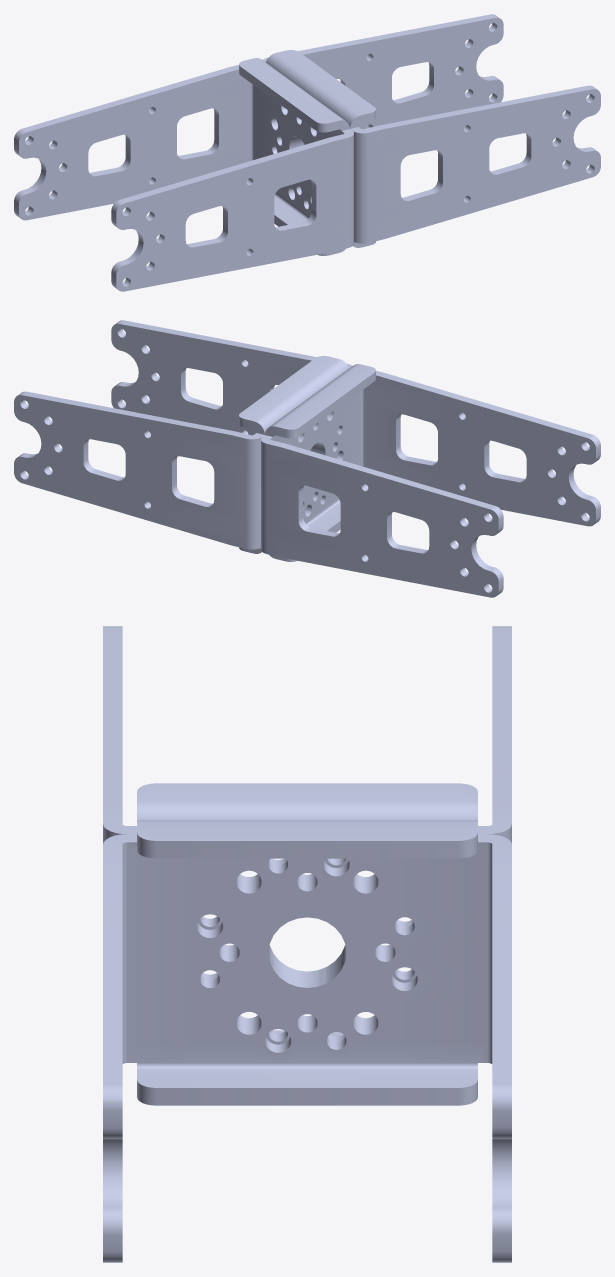
File: front_arm_link2.dae
3 views of the same model, one above another, from view 1: azimuth 30°, elevation 25°; view 2: azimuth 150°, elevation 25°; view 3: azimuth 270°, elevation 25° (orthographic). The views are drawn at different scales.
Visible parts, largest first — view 1: node0; view 2: node0; view 3: node0.
Boxes of the visible parts, box(x1,y1,x2,y2) form: node0: box(14, 14, 600, 291); node0: box(14, 320, 600, 597); node0: box(103, 626, 511, 1262).
Bounding box in the file's own units: 0.115 × 0.042 × 0.03.
